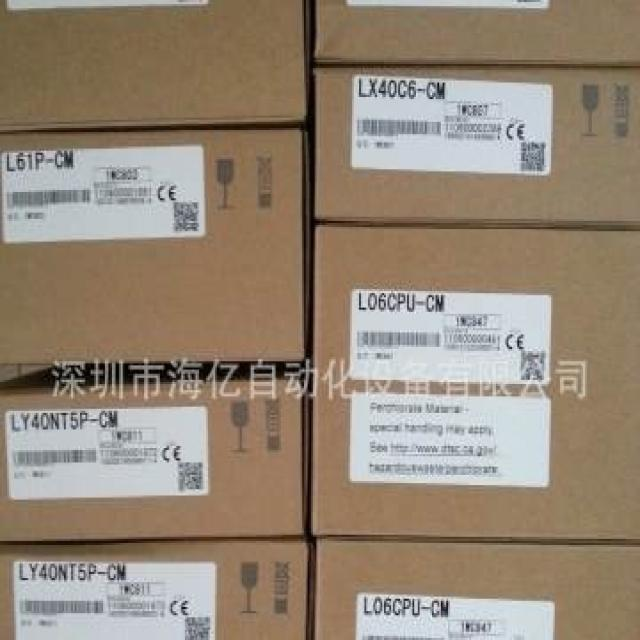box: (311, 226, 638, 543), (0, 128, 307, 363), (0, 364, 305, 543), (315, 68, 638, 225), (0, 1, 308, 130), (315, 540, 638, 638), (2, 537, 315, 638), (316, 0, 638, 66)
